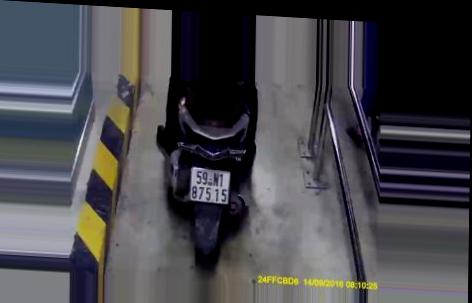License_Plate: (183, 162, 235, 207)
